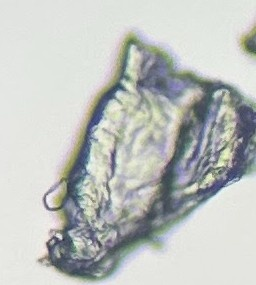microplastic: (36, 30, 256, 282), (239, 20, 256, 57)
